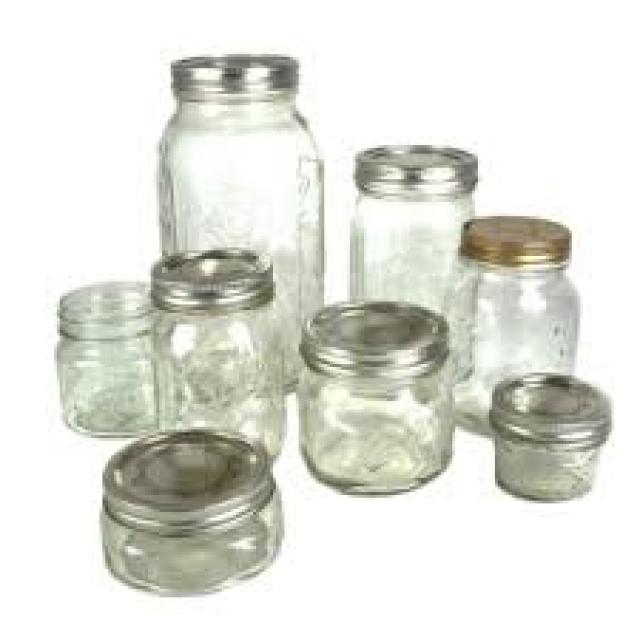glass: (159, 88, 319, 390), (347, 185, 472, 387), (441, 251, 574, 436), (148, 299, 282, 478), (296, 356, 452, 489), (100, 487, 282, 598), (57, 282, 156, 433), (495, 432, 597, 501)
metal: (100, 427, 268, 526), (296, 299, 444, 378), (486, 370, 606, 441), (148, 245, 273, 310), (353, 140, 475, 197), (168, 52, 293, 103), (458, 213, 566, 262)
